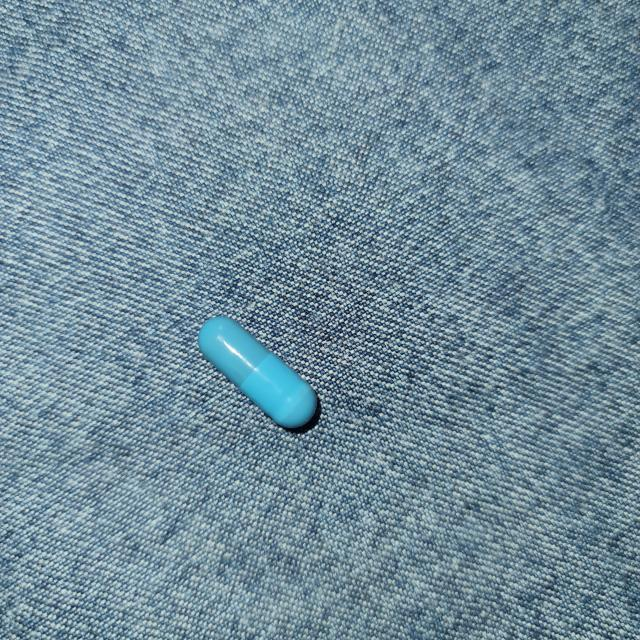pill: (196, 314, 322, 436)
